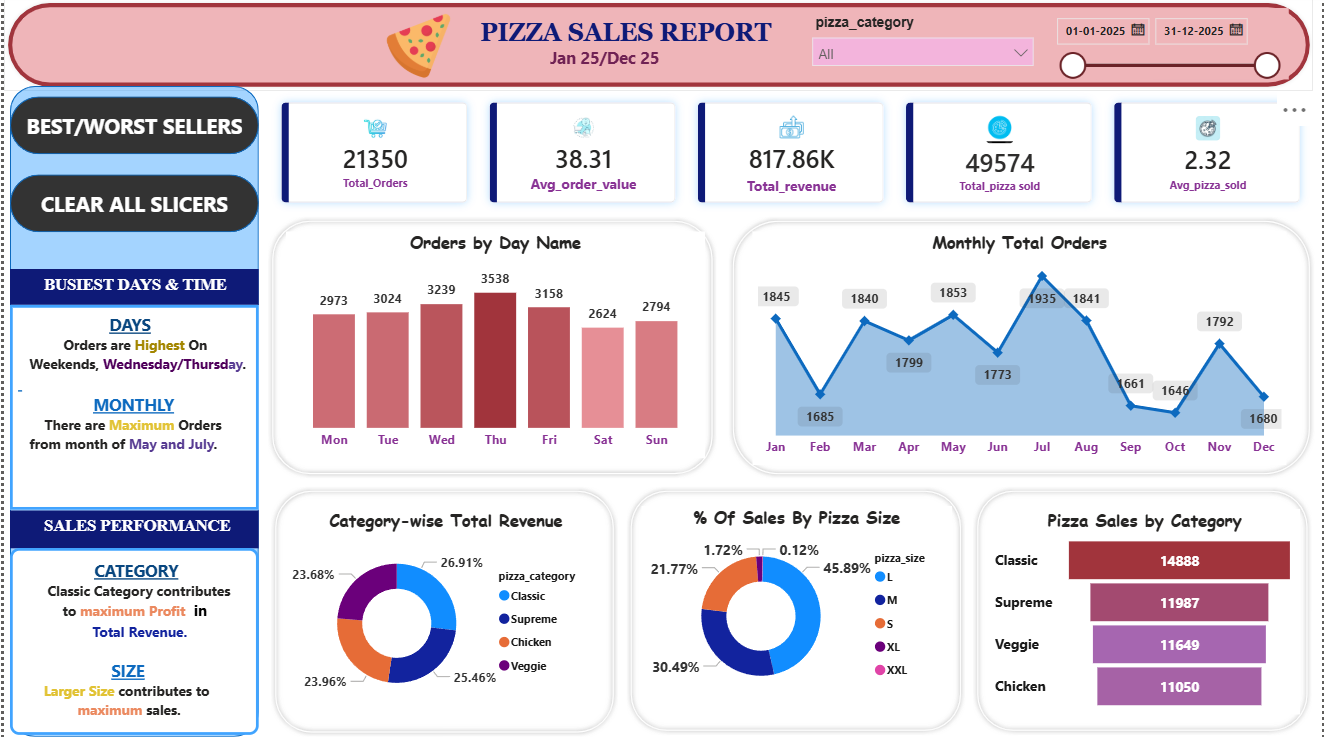

What the dashboard file says about the page in this screenshot:
{"tool":"powerbi","page":{"name":"Home","canvas":[1280,720],"ordinal":0},"visuals":[{"type":"cardVisual","fields":{"Data":["pizza_data pizza_sales.Total_Orders","pizza_data pizza_sales.Avg_order_value","pizza_data pizza_sales.Total_revenue","pizza_data pizza_sales.Total_pizza sold","pizza_data pizza_sales.Avg_pizza_sold"]},"box":[257.5,89.1,1012,121.4],"z":0},{"type":"shape","box":[0,0,1271.1,89.1],"z":11000},{"type":"textbox","box":[456.6,13,296.3,63.1],"z":12000},{"type":"image","box":[348.1,13,108.5,64.8],"z":13000},{"type":"slicer","fields":{"Values":["pizza_data.pizza_category"]},"box":[774,9.7,234.8,66.4],"z":19000},{"type":"slicer","fields":{"Values":["pizza_data.order_date"]},"box":[1008.8,8.1,238,69.6],"z":20000},{"type":"shape","box":[266.6,210.5,316.8,241.5],"z":23000},{"type":"shape","box":[6.5,88.5,241.3,631.5],"z":24000},{"type":"textbox","box":[6.5,244.5,241.3,34],"z":25000},{"type":"textbox","box":[5.7,277.8,241.9,194.6],"z":26000},{"type":"shape","box":[589.4,210.5,328.7,241.3],"z":27000},{"type":"shape","box":[924.6,210.5,338.4,241.3],"z":28000},{"type":"shape","box":[255.8,472.8,328.7,234.8],"z":29000},{"type":"shape","box":[591,474.4,327.1,234.8],"z":30000},{"type":"shape","box":[923,472.8,335.2,234.8],"z":31000},{"type":"barChart","title":"Top 5 Best-Selling Pizzas by Revenue","fields":{"Category":["pizza_data.pizza_name"],"Y":["pizza_data.Total_revenue"]},"box":[272,225.1,294.7,208.9],"z":32000},{"type":"barChart","title":"Bottom 5 Pizzas by Revenue","fields":{"Category":["pizza_data.pizza_name"],"Y":["pizza_data.Total_revenue"]},"box":[272,492.2,294.7,208.9],"z":33000},{"type":"barChart","title":"Top 5 Pizzas by Total Quantity Sold","fields":{"Category":["pizza_data.pizza_name"],"Y":["pizza_data.Total_pizza sold"]},"box":[605.6,225.1,297.9,208.9],"z":34000},{"type":"barChart","title":"Bottom 5 Pizzas by Total Quantity Sold","fields":{"Category":["pizza_data.pizza_name"],"Y":["pizza_data.Total_pizza sold"]},"box":[605.6,487.4,297.9,208.9],"z":35000},{"type":"barChart","title":"Top 5 Pizzas by Total Orders","fields":{"Category":["pizza_data.pizza_name"],"Y":["pizza_data.Total_Orders"]},"box":[943,224.9,304.3,209.8],"z":36000},{"type":"barChart","title":"Bottom 5 Pizzas by Total Orders","fields":{"Category":["pizza_data.pizza_name"],"Y":["pizza_data.Total_Orders"]},"box":[937.3,491.3,304.3,206],"z":37000},{"type":"textbox","box":[5.8,509.9,241.5,210.5],"z":38000},{"type":"textbox","box":[5.8,473.2,241.5,36.7],"z":39000},{"type":"shape","box":[5.8,175.8,241.5,50.2],"z":40000},{"type":"shape","box":[5.8,106.2,241.5,50.2],"z":41000}]}

Visuals, with their boxes in screenshot pixels (x1, y1, x2, y2), scaled from the page's 1280x720 canvas onto the 1324x739 screenshot:
cardVisual - pizza_data pizza_sales.Total_Orders x pizza_data pizza_sales.Avg_order_value: detection(266, 91, 1313, 216)
shape: detection(0, 0, 1315, 91)
textbox: detection(472, 13, 779, 78)
image: detection(360, 13, 472, 80)
slicer - pizza_data.pizza_category: detection(801, 10, 1043, 78)
slicer - pizza_data.order_date: detection(1043, 8, 1290, 80)
shape: detection(276, 216, 603, 464)
shape: detection(7, 91, 256, 738)
textbox: detection(7, 251, 256, 286)
textbox: detection(6, 285, 256, 485)
shape: detection(610, 216, 950, 464)
shape: detection(956, 216, 1306, 464)
shape: detection(265, 485, 605, 726)
shape: detection(611, 487, 950, 728)
shape: detection(955, 485, 1301, 726)
"Top 5 Best-Selling Pizzas by Revenue" barChart: detection(281, 231, 586, 445)
"Bottom 5 Pizzas by Revenue" barChart: detection(281, 505, 586, 720)
"Top 5 Pizzas by Total Quantity Sold" barChart: detection(626, 231, 935, 445)
"Bottom 5 Pizzas by Total Quantity Sold" barChart: detection(626, 500, 935, 715)
"Top 5 Pizzas by Total Orders" barChart: detection(975, 231, 1290, 446)
"Bottom 5 Pizzas by Total Orders" barChart: detection(970, 504, 1284, 716)
textbox: detection(6, 523, 256, 738)
textbox: detection(6, 486, 256, 523)
shape: detection(6, 180, 256, 232)
shape: detection(6, 109, 256, 161)
